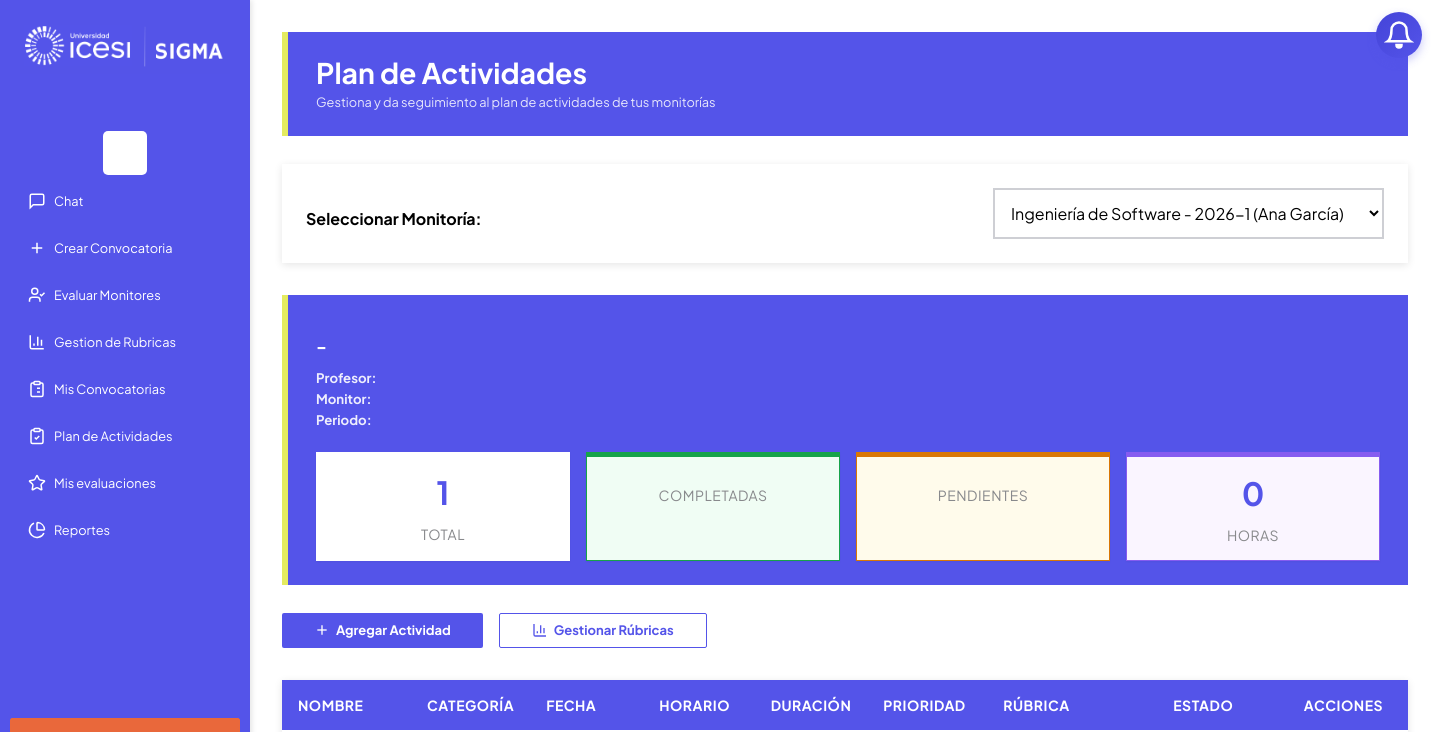
ActividadesRegistroPlanVista › PlanActividades debe cambiar monitoría desde el selector
Select "Programación Avanzada - 2026-2 (Luis Pérez)" in the dropdown showing "Ingeniería de Software" at [1188, 214], box [993,188,1384,239]
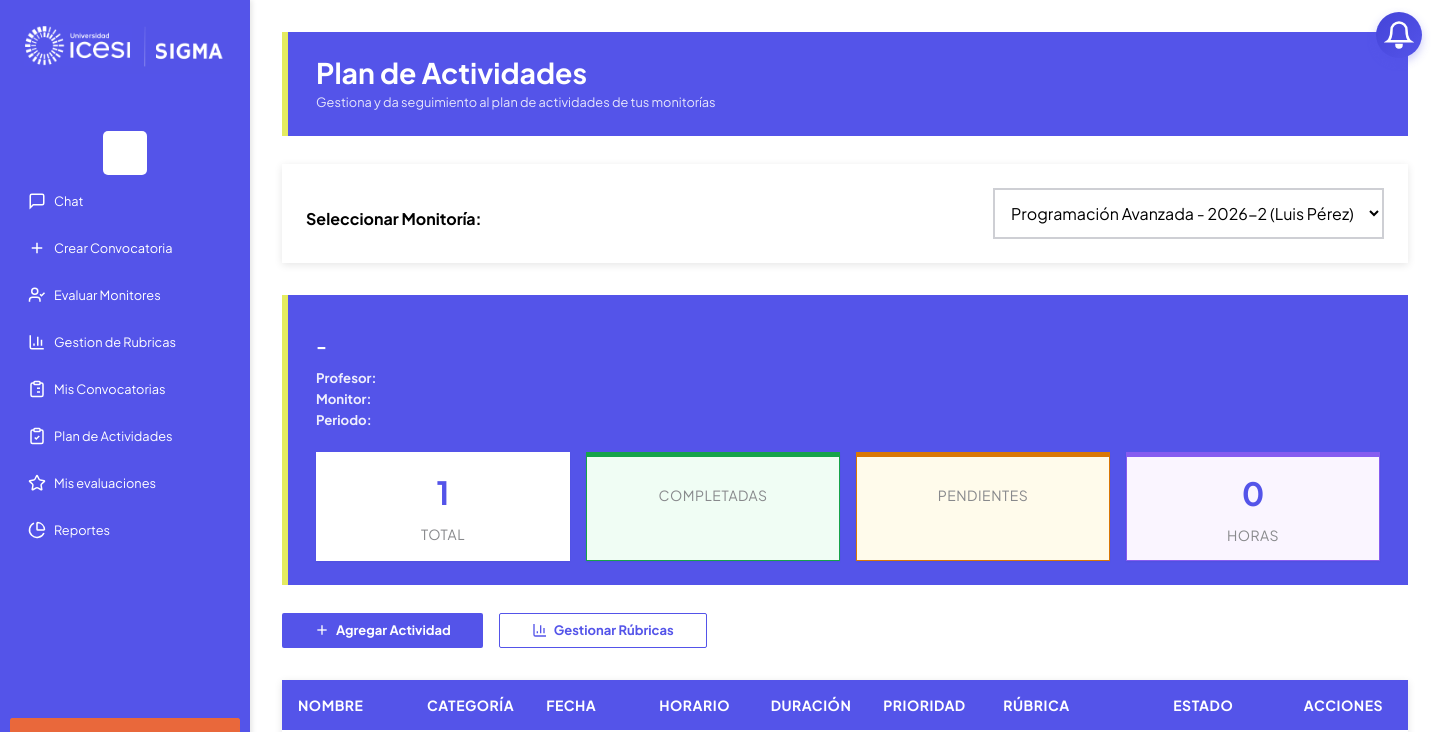
Now the dropdown showing "Programación Avanzada" is shown, box [993,188,1384,239]
